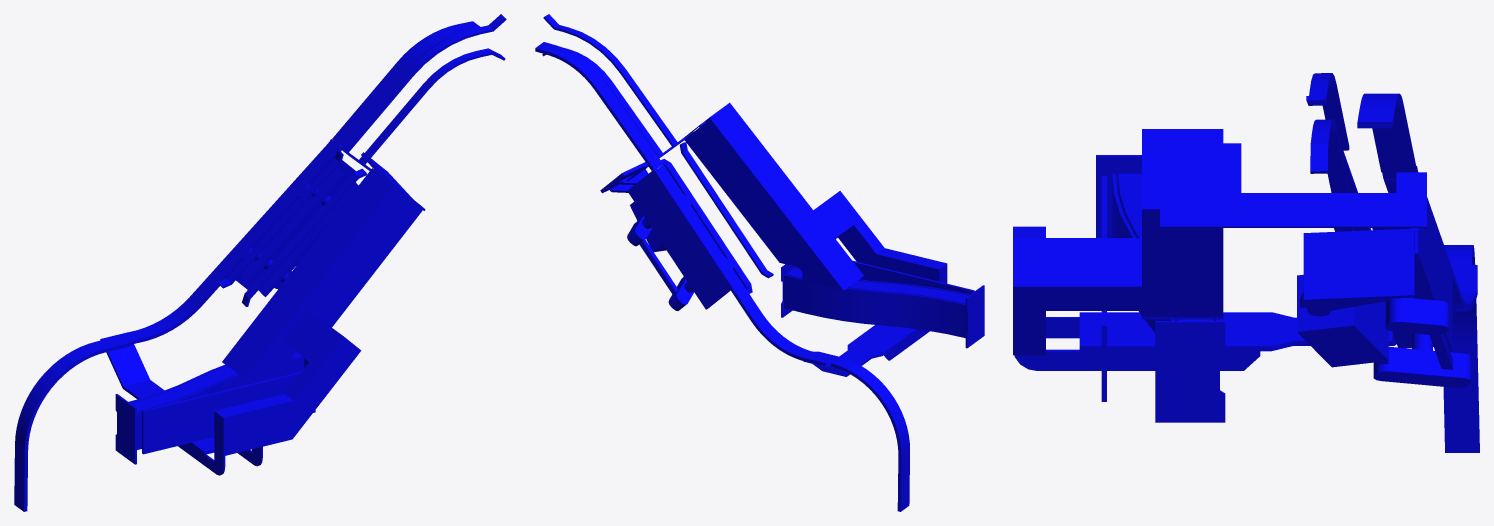
The model's file is Teste.glb.
The picture shows the model from 3 angles, left to right: view 1: azimuth 30°, elevation 25°; view 2: azimuth 150°, elevation 25°; view 3: azimuth 270°, elevation 25°; orthographic projection. The views are drawn at different scales.
Visible parts, largest first — view 1: Transpasse_Asset_Shrinkwrap_1; view 2: Transpasse_Asset_Shrinkwrap_1; view 3: Transpasse_Asset_Shrinkwrap_1.
Boxes of the visible parts, <box> form: Transpasse_Asset_Shrinkwrap_1: <box>14,14,506,511</box>; Transpasse_Asset_Shrinkwrap_1: <box>535,14,984,511</box>; Transpasse_Asset_Shrinkwrap_1: <box>1013,73,1479,452</box>.
Bounding box in the file's own units: 1666 × 1487 × 850.
